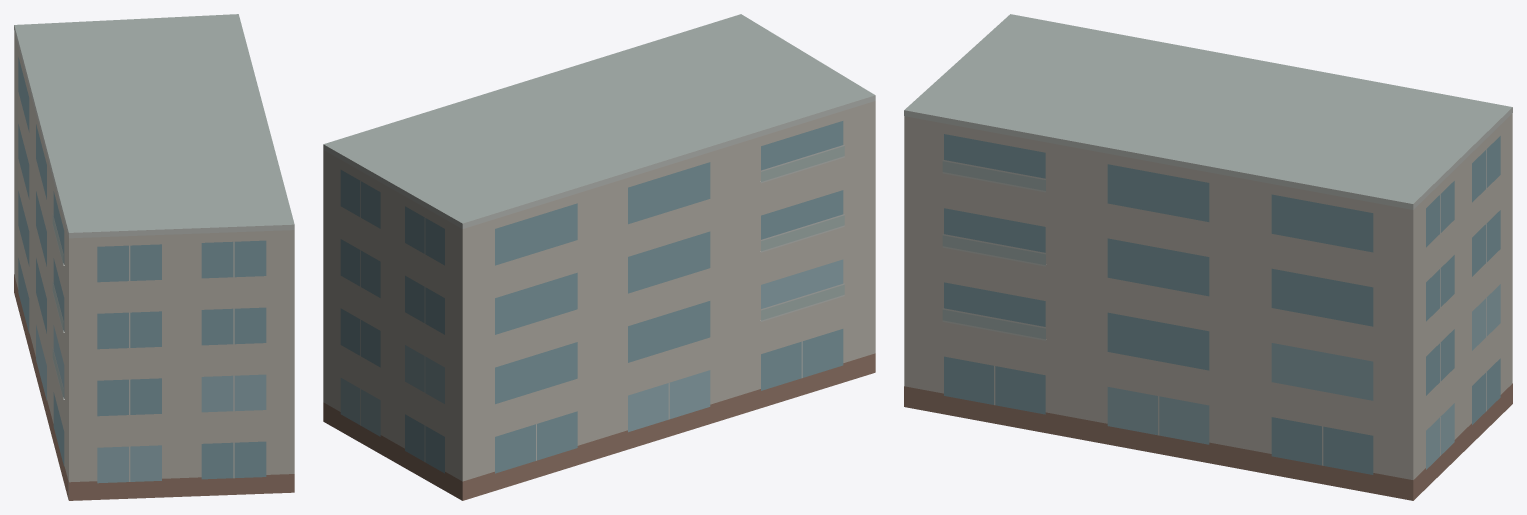
The model's file is survey-upis-32530434.glb.
3 renders of one model, left to right at view 1: azimuth 30°, elevation 25°; view 2: azimuth 150°, elevation 25°; view 3: azimuth 270°, elevation 25°, orthographic. The views are drawn at different scales.
Visible parts, largest first — view 1: survey-upis-32530434.tmp; view 2: survey-upis-32530434.tmp; view 3: survey-upis-32530434.tmp.
Part boxes in pixels (box(x1,y1,x2,y2)): survey-upis-32530434.tmp: box(14, 14, 294, 500); survey-upis-32530434.tmp: box(323, 14, 875, 500); survey-upis-32530434.tmp: box(904, 14, 1512, 500).
Size of the model in its own units: 16.77 by 12.2 by 22.69.
